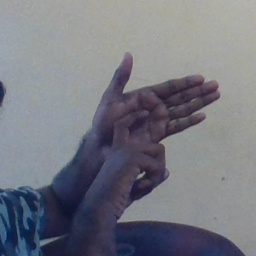R: (76, 50, 225, 198)
